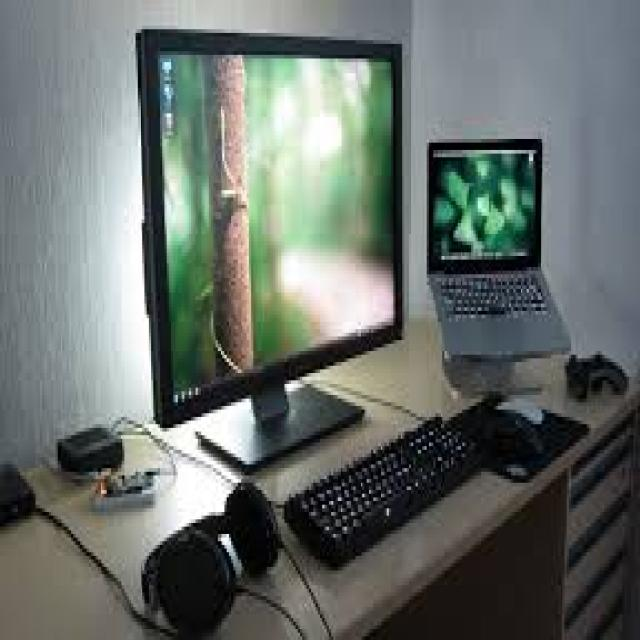komputer: (138, 40, 405, 477)
laptop: (427, 140, 572, 359)
